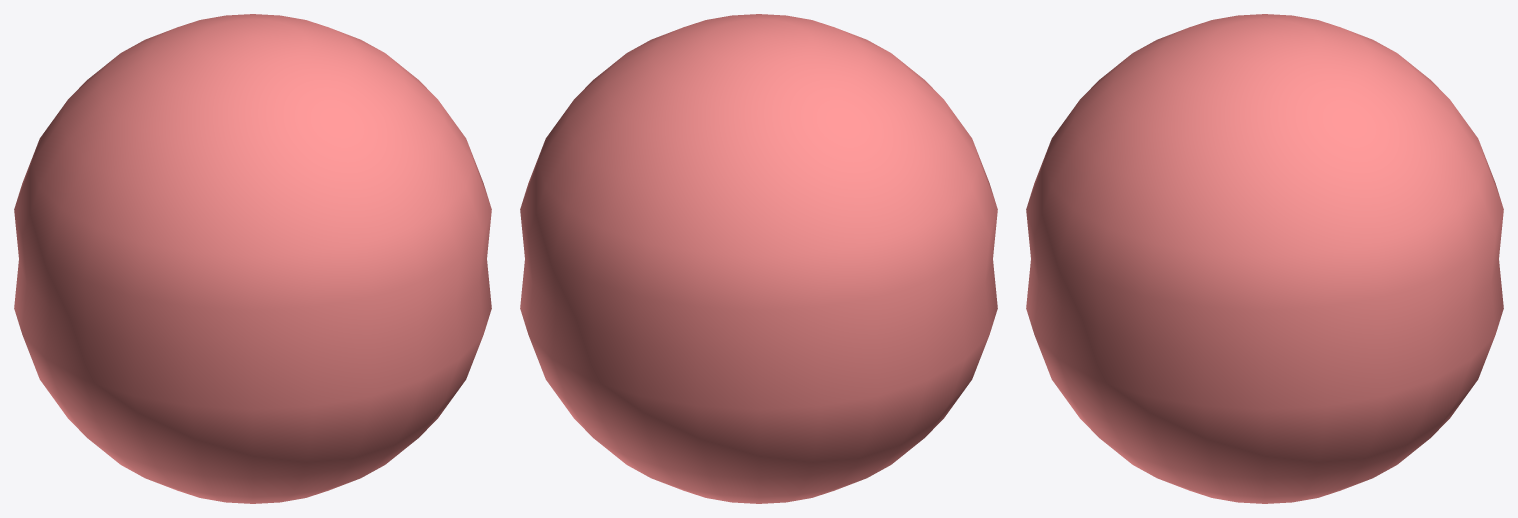
File: pellet.glb
3 renders of one model, left to right at view 1: azimuth 30°, elevation 25°; view 2: azimuth 150°, elevation 25°; view 3: azimuth 270°, elevation 25°, orthographic.
Parts seen in each view (by area): view 1: pellet; view 2: pellet; view 3: pellet.
Boxes of the visible parts, x1,y1,x2,y2 form: pellet: (14, 14, 491, 503); pellet: (520, 14, 997, 503); pellet: (1026, 14, 1503, 503).
Size of the model in its own units: 1.95 by 2 by 1.95.
